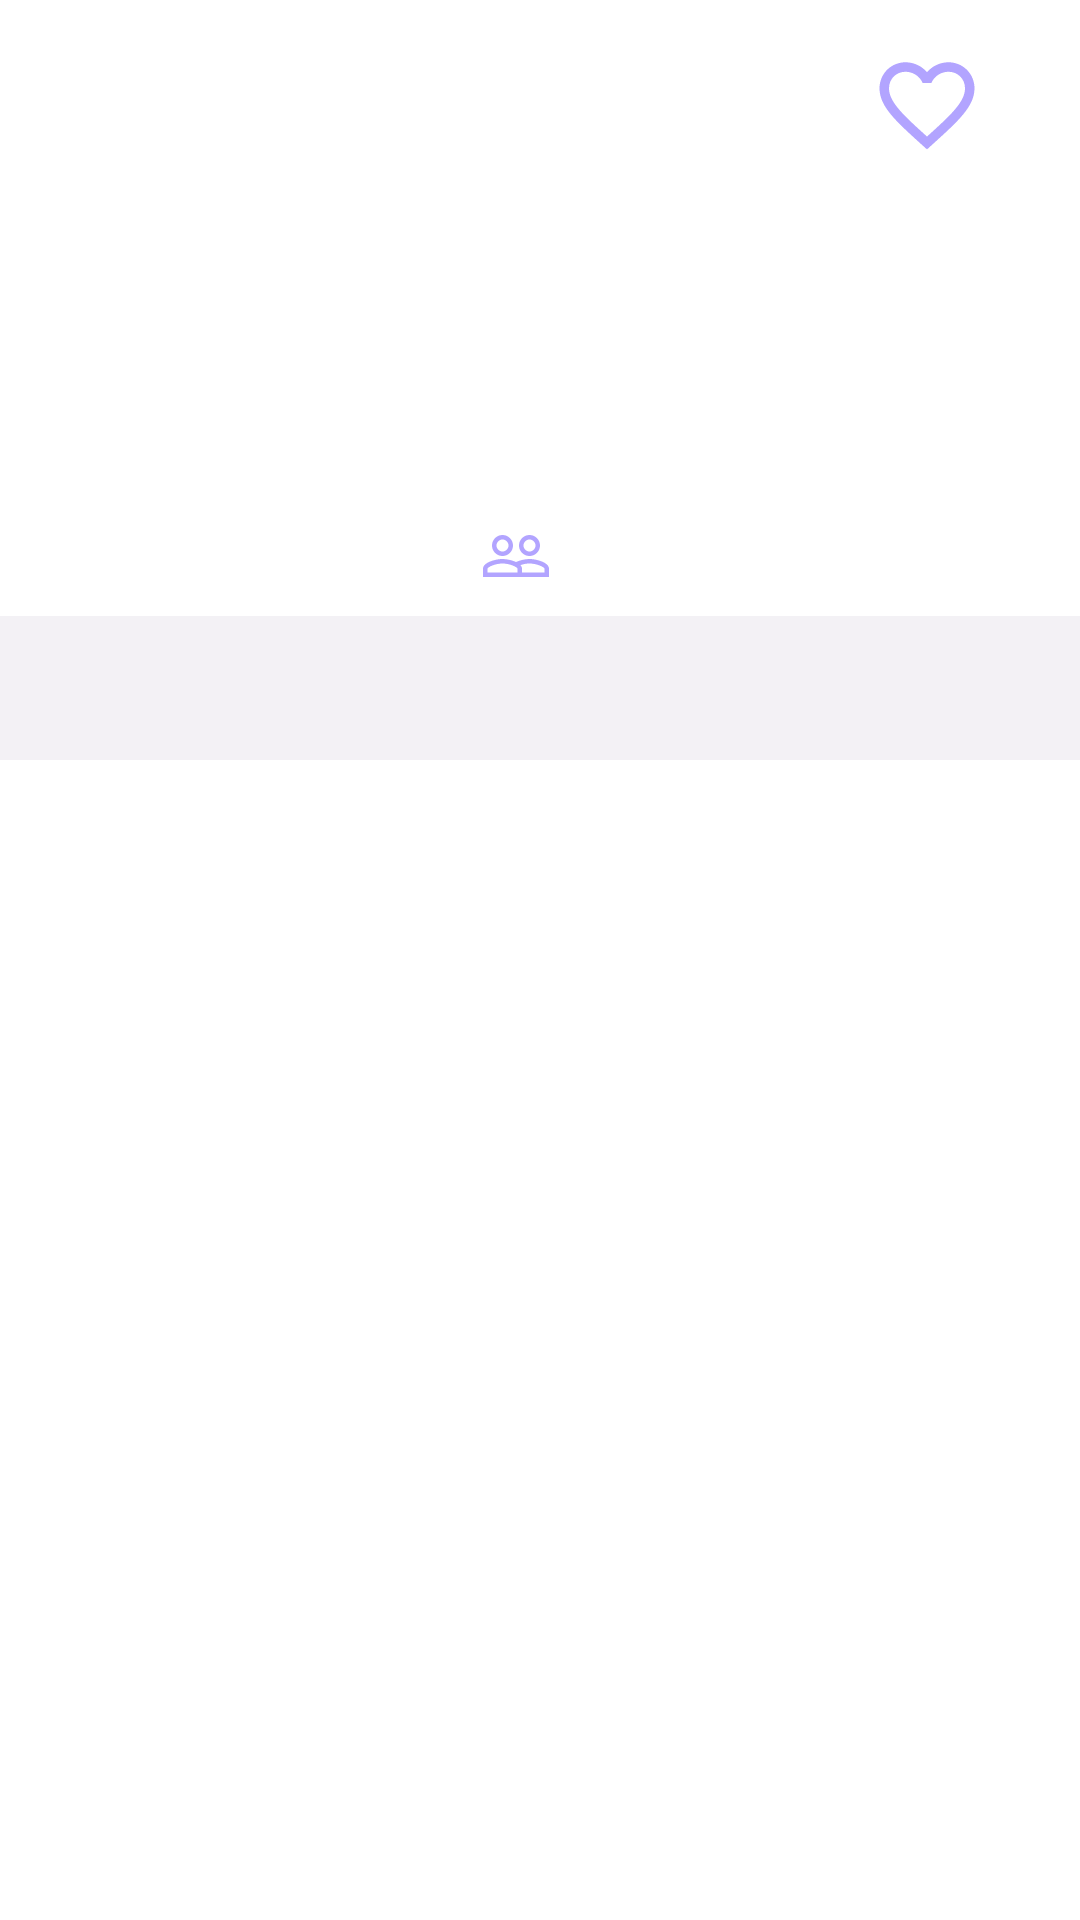

Icons on this 1080px x 1920px Android screen, each with the point to tap as (x,y):
favorite toggel: (927,105)
